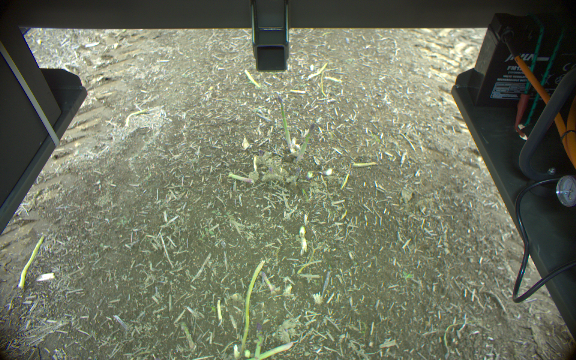aspa: (241, 256, 263, 353), (249, 339, 295, 360), (275, 94, 291, 151), (293, 122, 314, 162), (251, 321, 264, 360)
